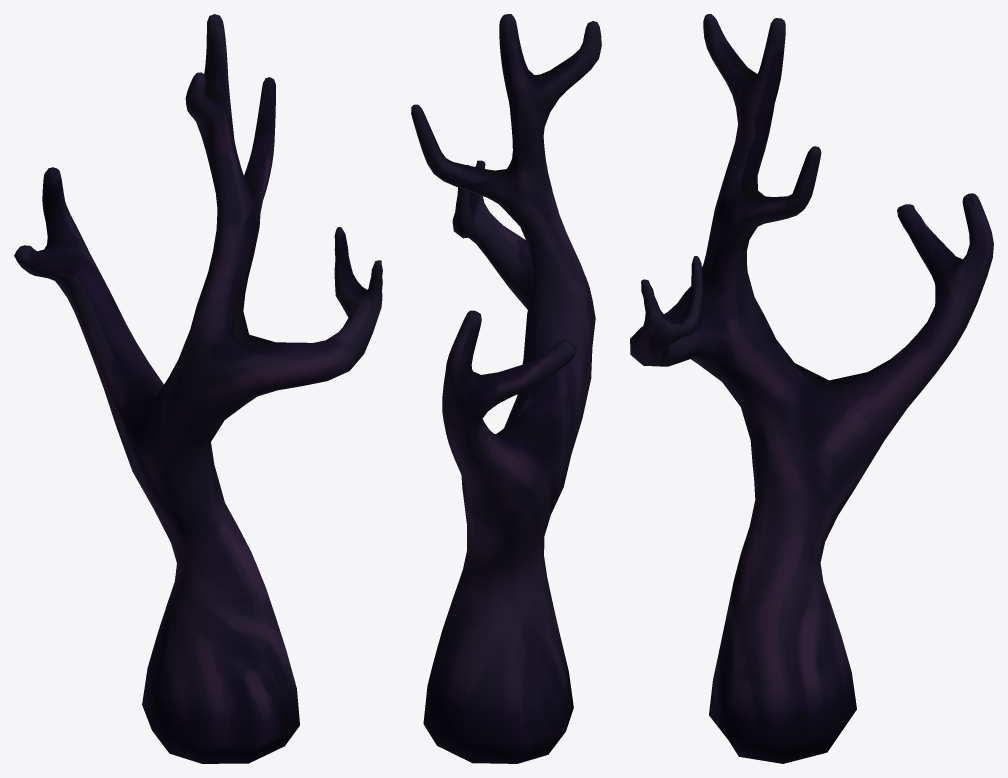
Rendered from Tree_A.fbx.
3 renders of one model, left to right at view 1: azimuth 30°, elevation 25°; view 2: azimuth 150°, elevation 25°; view 3: azimuth 270°, elevation 25°, orthographic. The views are drawn at different scales.
Parts seen in each view (by area): view 1: Plane; view 2: Plane; view 3: Plane.
Boxes of the visible parts, left/top/right/bottom form: Plane: left=14, top=14, right=382, bottom=763; Plane: left=411, top=14, right=601, bottom=763; Plane: left=630, top=14, right=993, bottom=763.
Size of the model in its own units: 729 by 538 by 1606.
Materials: 1 (1 with a texture image).
